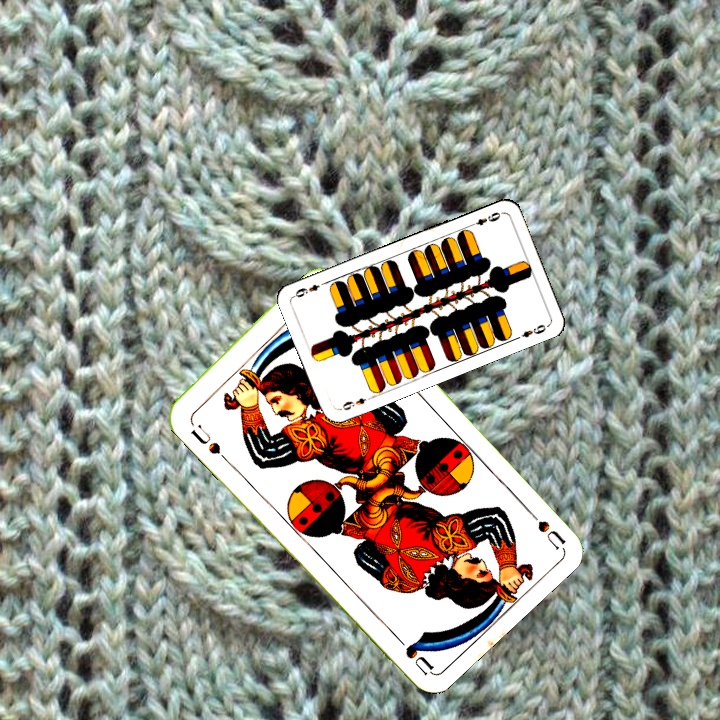E9: (336, 392, 375, 413), (466, 208, 503, 230)
SU: (519, 500, 567, 551), (186, 420, 224, 457)
